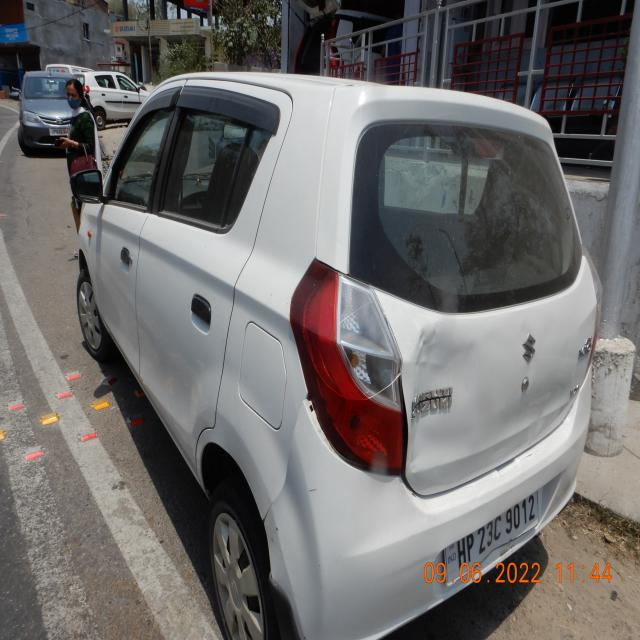damage: (401, 309, 469, 465), (221, 411, 275, 506), (298, 448, 323, 640), (139, 362, 200, 437), (271, 513, 295, 593), (529, 391, 568, 437), (301, 395, 331, 452), (567, 300, 598, 338), (497, 538, 518, 556), (520, 448, 540, 461), (409, 491, 417, 497)
